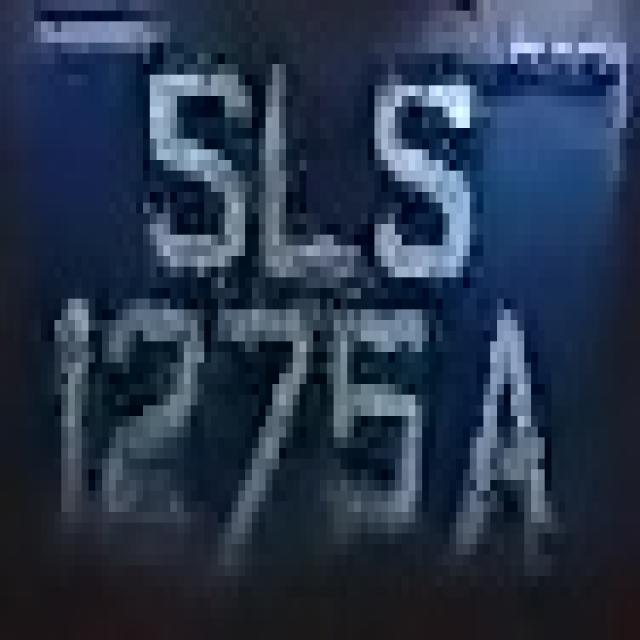1: (41, 256, 95, 544)
2: (82, 277, 218, 534)
5: (313, 256, 429, 555)
7: (191, 277, 313, 576)
A: (436, 267, 558, 608)
L: (245, 32, 375, 277)
S: (143, 21, 259, 288), (347, 53, 477, 288)
